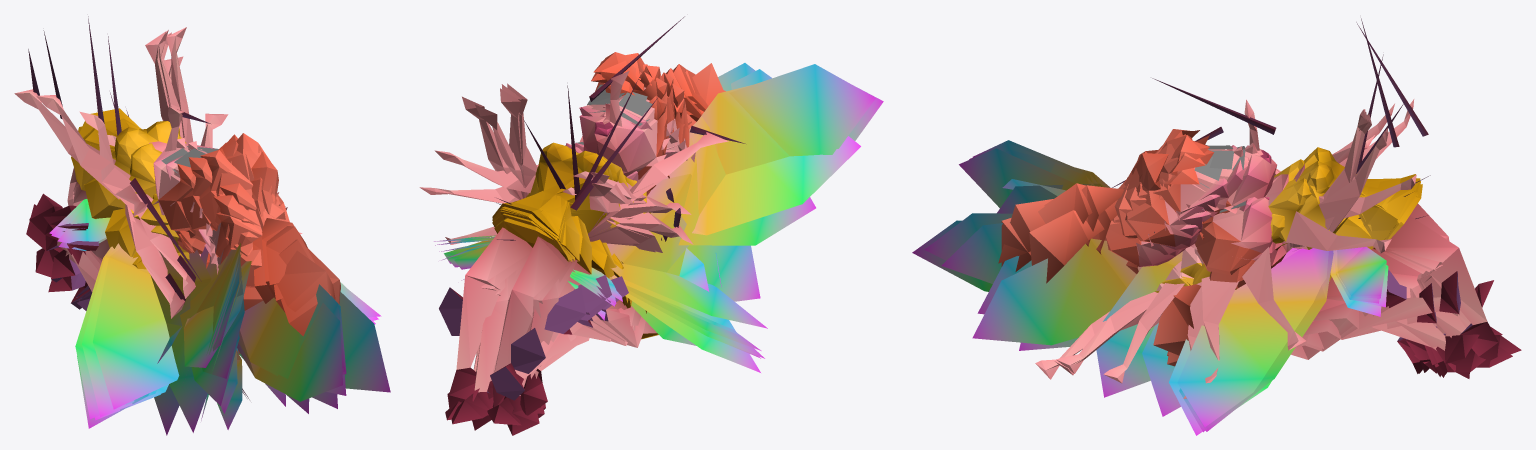
Rendered from sp2_648.mdl_a2.01.obj.
The picture shows the model from 3 angles, left to right: view 1: azimuth 30°, elevation 25°; view 2: azimuth 150°, elevation 25°; view 3: azimuth 270°, elevation 25°; orthographic projection. The views are drawn at different scales.
Visible parts, largest first — view 1: fr_05, fr_13, fr_06, fr_08, fr_12, fr_00, fr_09, fr_11, fr_07, fr_02, fr_10, fr_04 (+2 smaller); view 2: fr_00, fr_05, fr_06, fr_13, fr_09, fr_12, fr_01, fr_10, fr_11, fr_02, fr_04, fr_03 (+2 smaller); view 3: fr_05, fr_06, fr_13, fr_10, fr_11, fr_00, fr_08, fr_04, fr_12, fr_07, fr_09, fr_01 (+2 smaller).
Part boxes in pixels (x1,y1,x2,y2): fr_05: (57,27,381,409); fr_13: (35,30,309,432); fr_06: (51,106,390,392); fr_08: (67,194,342,429); fr_12: (26,16,337,408); fr_00: (14,49,285,435); fr_09: (58,193,343,412); fr_11: (29,36,346,395); fr_07: (63,110,345,413); fr_02: (51,89,240,418); fr_10: (43,92,346,374); fr_04: (52,30,378,416); fr_00: (434,80,696,435); fr_05: (441,96,767,410); fr_06: (439,16,860,415); fr_13: (419,60,760,425); fr_09: (497,63,873,341); fr_12: (445,52,815,400); fr_01: (461,104,760,430); fr_10: (497,64,789,341); fr_11: (487,61,725,393); fr_02: (439,88,764,409); fr_04: (434,84,761,407); fr_03: (435,83,760,358); fr_05: (1153,131,1498,426); fr_06: (972,78,1460,398); fr_13: (1096,18,1512,397); fr_10: (941,149,1436,383); fr_11: (977,101,1479,383); fr_00: (1142,22,1521,416); fr_08: (912,148,1368,379); fr_04: (1167,112,1457,430); fr_12: (1019,54,1493,372); fr_07: (924,142,1412,375); fr_09: (943,140,1427,373); fr_01: (1112,127,1469,435).
Size of the model in its own units: 778 by 858 by 1416.
